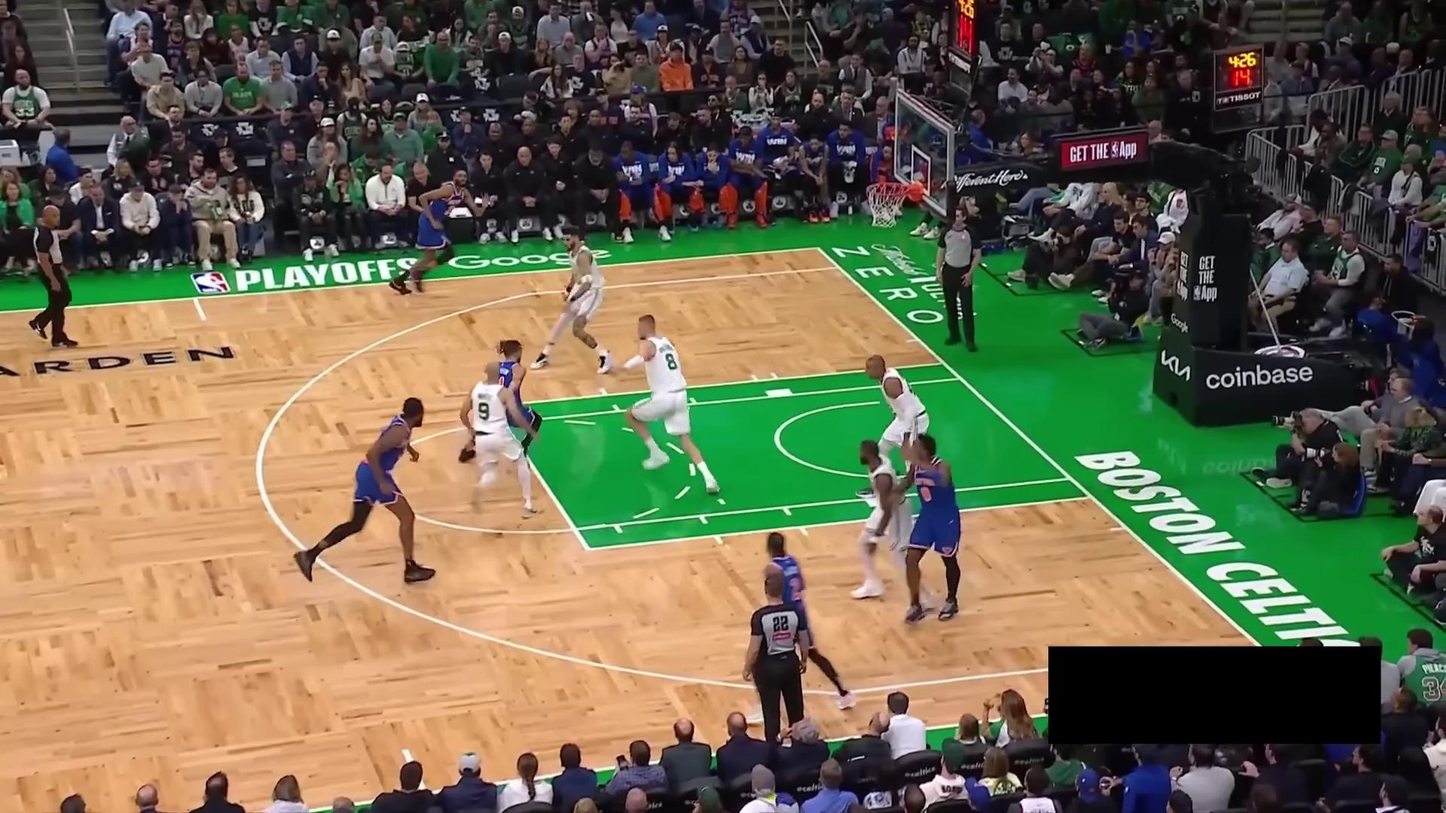number: (789, 577, 803, 601), (664, 352, 678, 371), (477, 401, 490, 420), (920, 486, 931, 501)
player: (291, 395, 438, 585), (609, 313, 721, 496), (748, 531, 858, 711), (851, 437, 940, 608), (458, 360, 545, 524), (891, 434, 963, 627), (529, 225, 614, 375), (389, 168, 489, 295), (458, 338, 543, 472), (860, 353, 931, 503)
referee: (743, 574, 810, 743), (28, 204, 81, 349), (935, 202, 983, 353)
rim: (865, 181, 911, 197)
